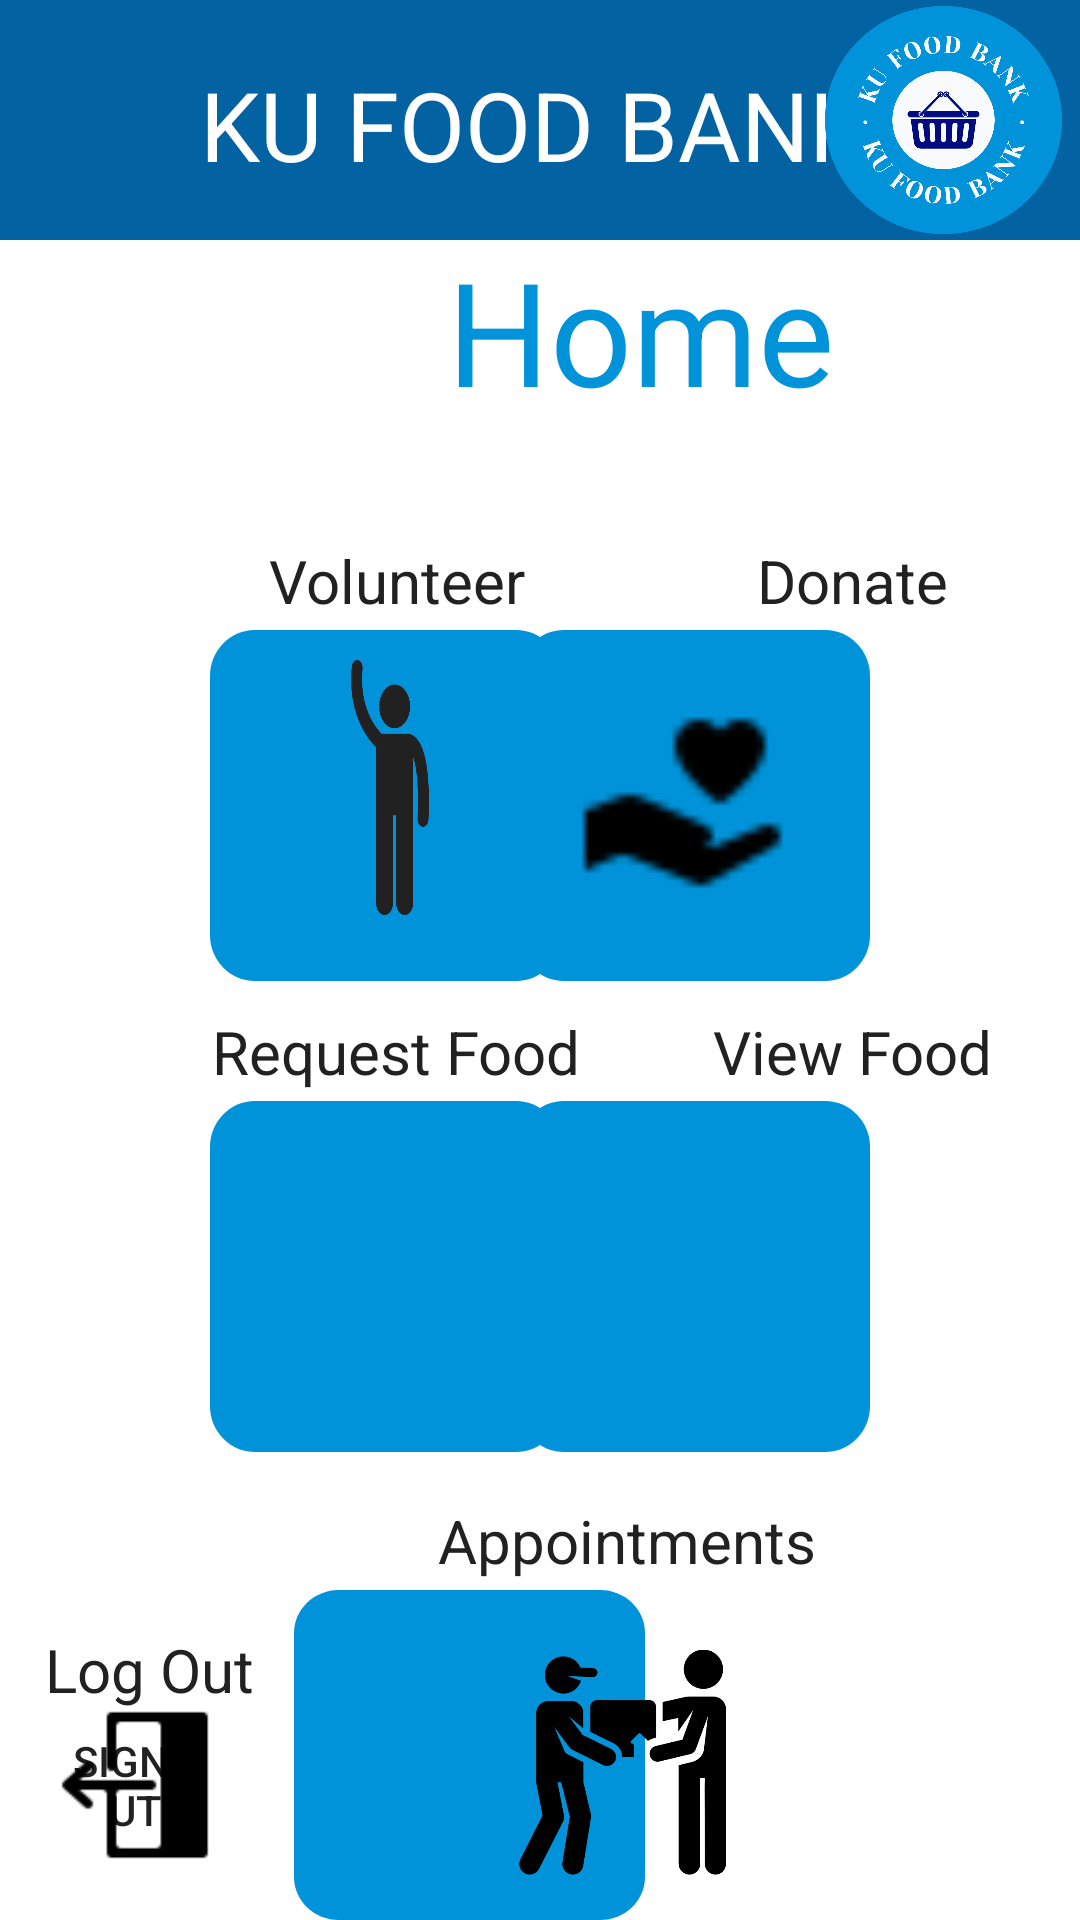

Named icons in this screenshot (1080*1920) and their centers, point (x, y):
person: point (390, 787)
